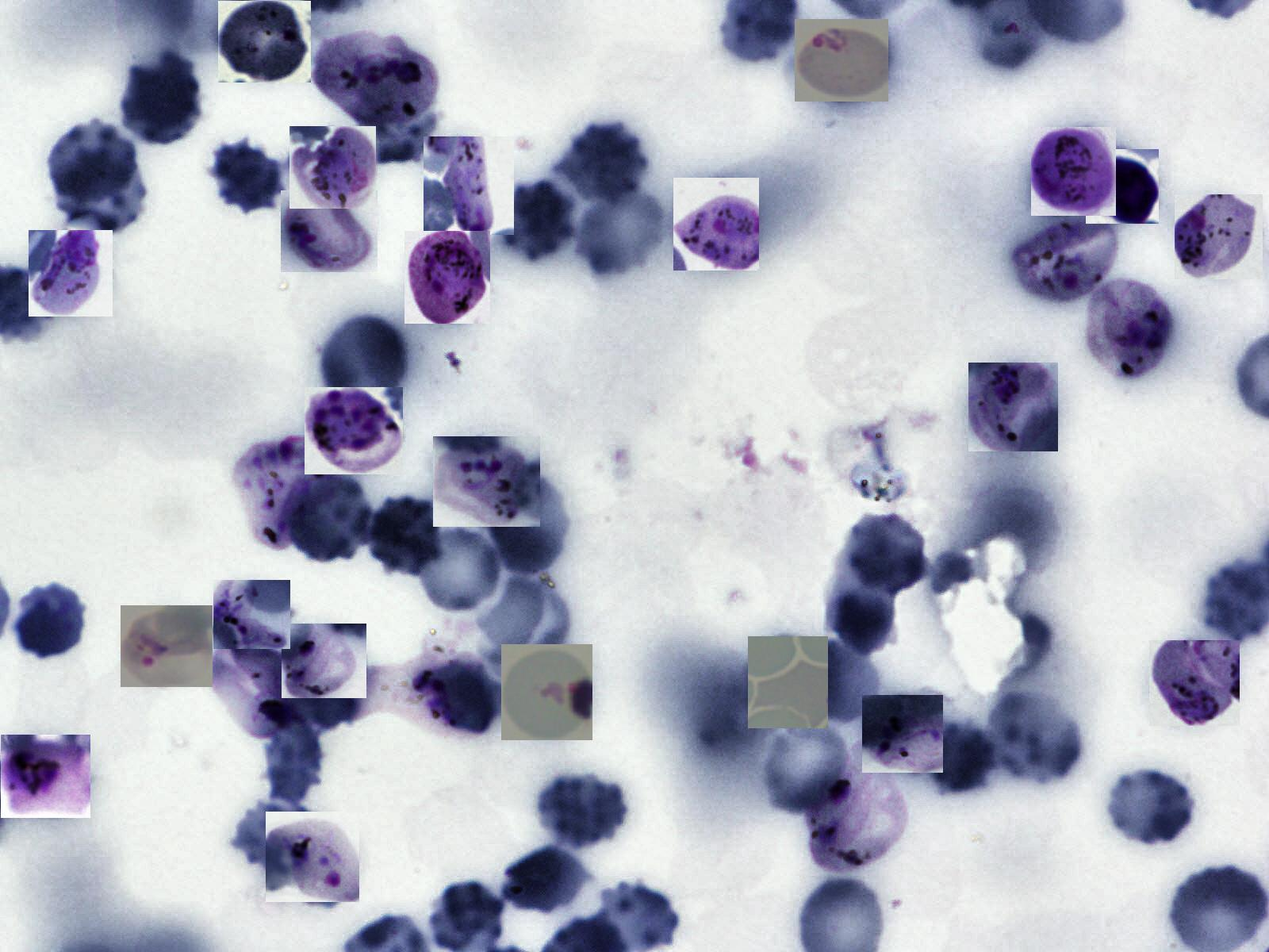Infected: (804, 739, 909, 870), (309, 33, 438, 129), (232, 435, 341, 548), (1079, 273, 1176, 385), (343, 647, 465, 736), (1010, 216, 1121, 310), (433, 436, 540, 527), (424, 136, 514, 235), (501, 644, 592, 740), (305, 387, 403, 474), (266, 812, 359, 902), (209, 638, 289, 740), (674, 178, 760, 271), (281, 190, 378, 272), (968, 363, 1058, 451), (404, 232, 490, 324), (1149, 640, 1240, 726), (795, 19, 888, 102), (1031, 127, 1116, 216), (121, 605, 213, 687), (218, 2, 311, 83), (1175, 194, 1263, 279), (1, 735, 91, 818), (748, 636, 828, 728), (29, 230, 113, 317), (289, 126, 376, 209), (862, 696, 943, 774), (282, 624, 366, 699), (1086, 149, 1159, 224), (213, 580, 290, 649)
Uninfected: (987, 683, 1086, 785), (482, 471, 575, 578), (412, 522, 504, 616), (320, 313, 411, 407), (761, 718, 849, 813), (284, 478, 378, 566), (56, 149, 148, 238), (1101, 765, 1199, 847), (118, 56, 206, 146), (235, 796, 328, 880), (47, 119, 136, 203), (799, 638, 884, 724), (492, 180, 576, 267), (562, 120, 650, 202), (535, 771, 626, 849), (845, 512, 930, 593), (366, 494, 444, 578), (499, 843, 588, 916), (11, 582, 90, 662), (259, 714, 325, 807), (207, 140, 287, 214), (825, 581, 894, 657), (928, 721, 994, 796)
